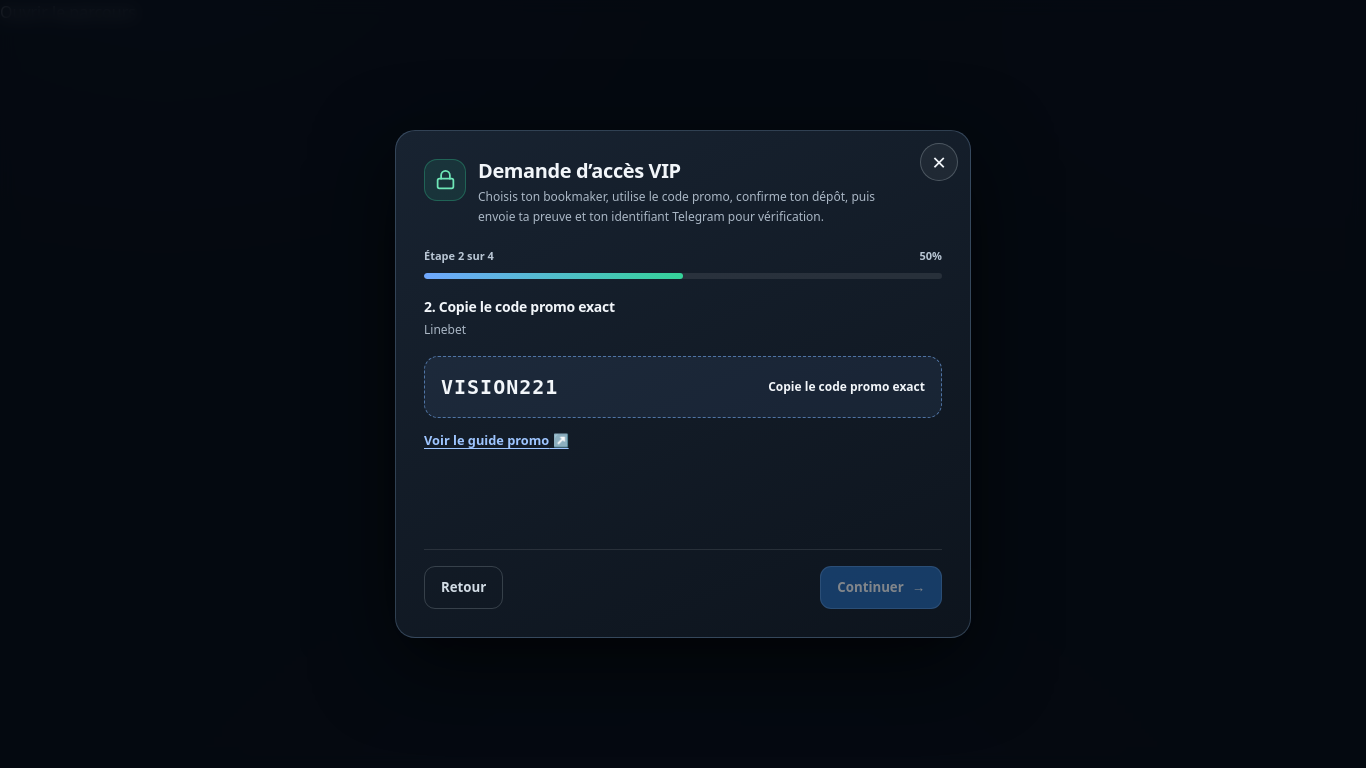
Test: parcours VIP à quatre étapes, interactions localisées › valide la copie, les confirmations et le dépôt minimal avant l’étape 4 en fr
Earlier steps of the test are not shown.
Click the button "VISION221 Copie le code promo exact". click: click(500, 387)
box: [424,356,942,418]
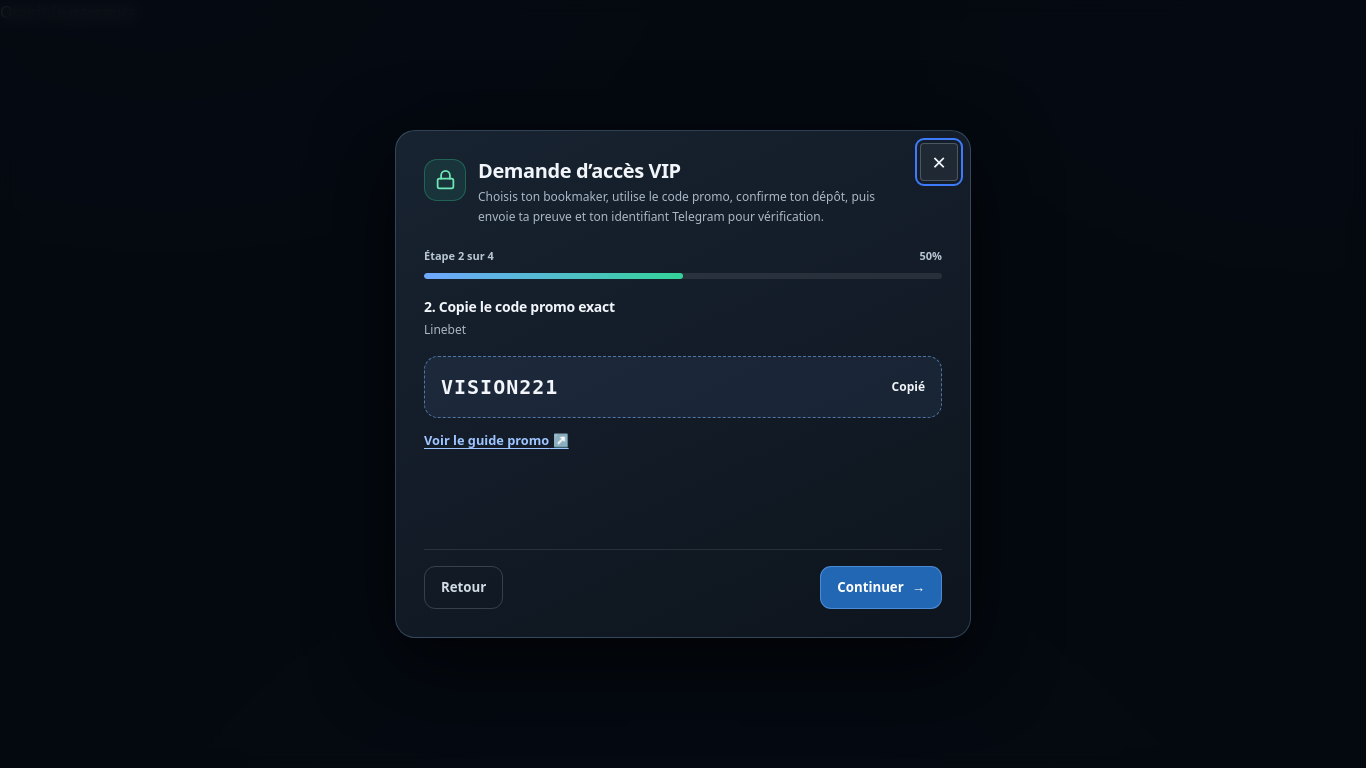
Expected: the text "Copié" is shown, [892,379,925,395]
Click the button "Continuer →". click: click(881, 588)
box: [820,566,942,609]
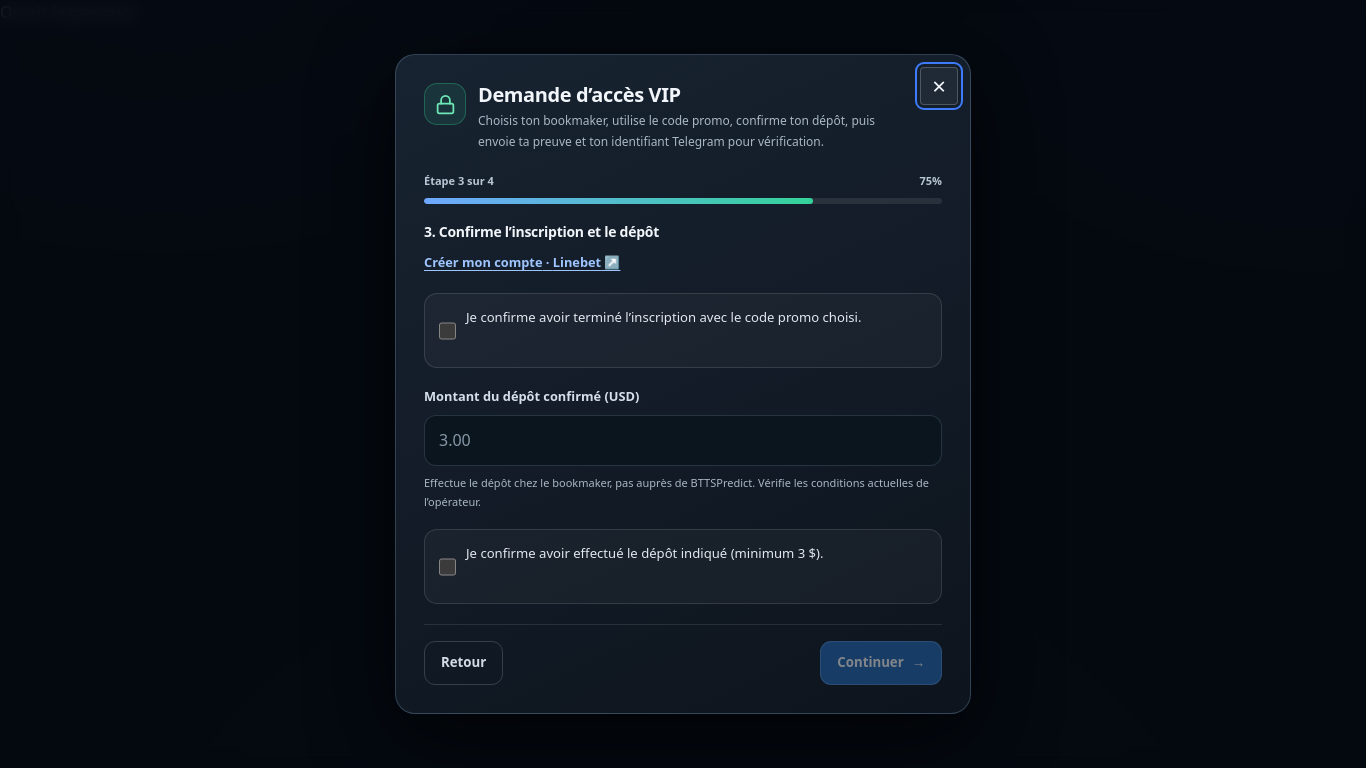
Expected: the text "Étape 3 sur 4" is shown, [424,172,494,190]
Expected: the button "Continuer →" is disabled, [820,642,942,685]
Click the 1st checkbox. click: click(448, 331)
box: [439,309,456,353]
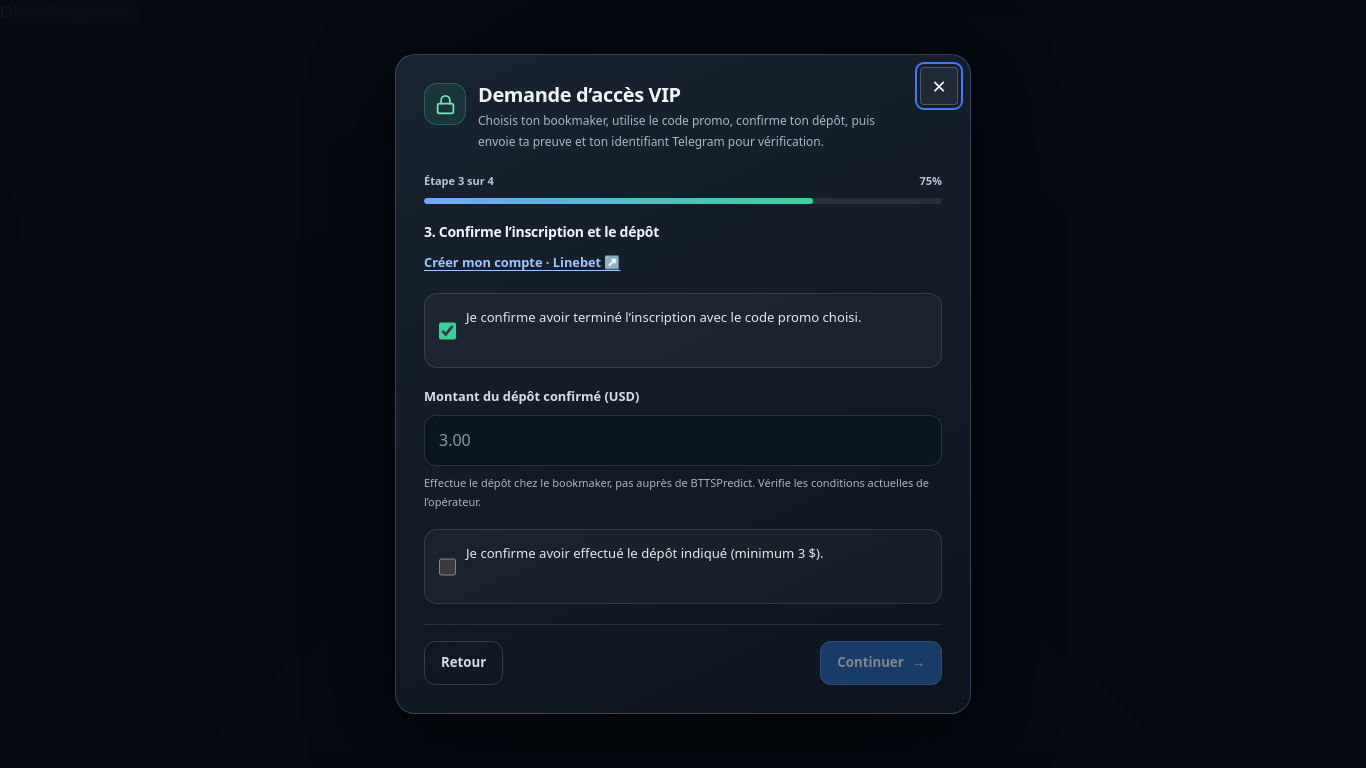
Type "2.99" into the field labelled "Montant du dépôt confirmé (USD)". click: (683, 440)
box: [424,414,942,466]
Click the checkbox labelled "Je confirme avoir effectué le dépôt indiqué (minimum 3 $).". click: click(448, 568)
box: [439,546,456,590]
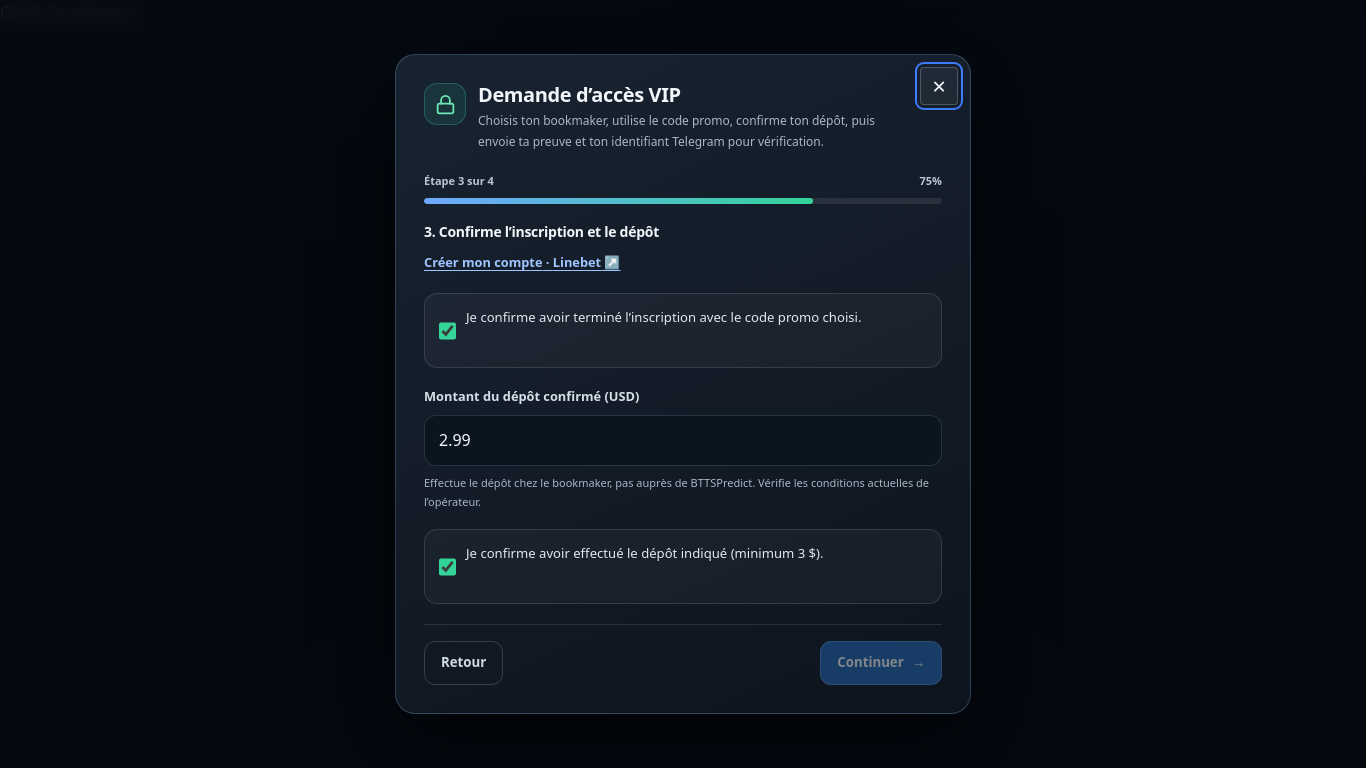
Expected: the button "Continuer →" is disabled, [820,642,942,685]
Replace the text in the field labelled "Montant du dépôt confirmé (USD)" with "3". click: (683, 440)
box: [424,414,942,466]
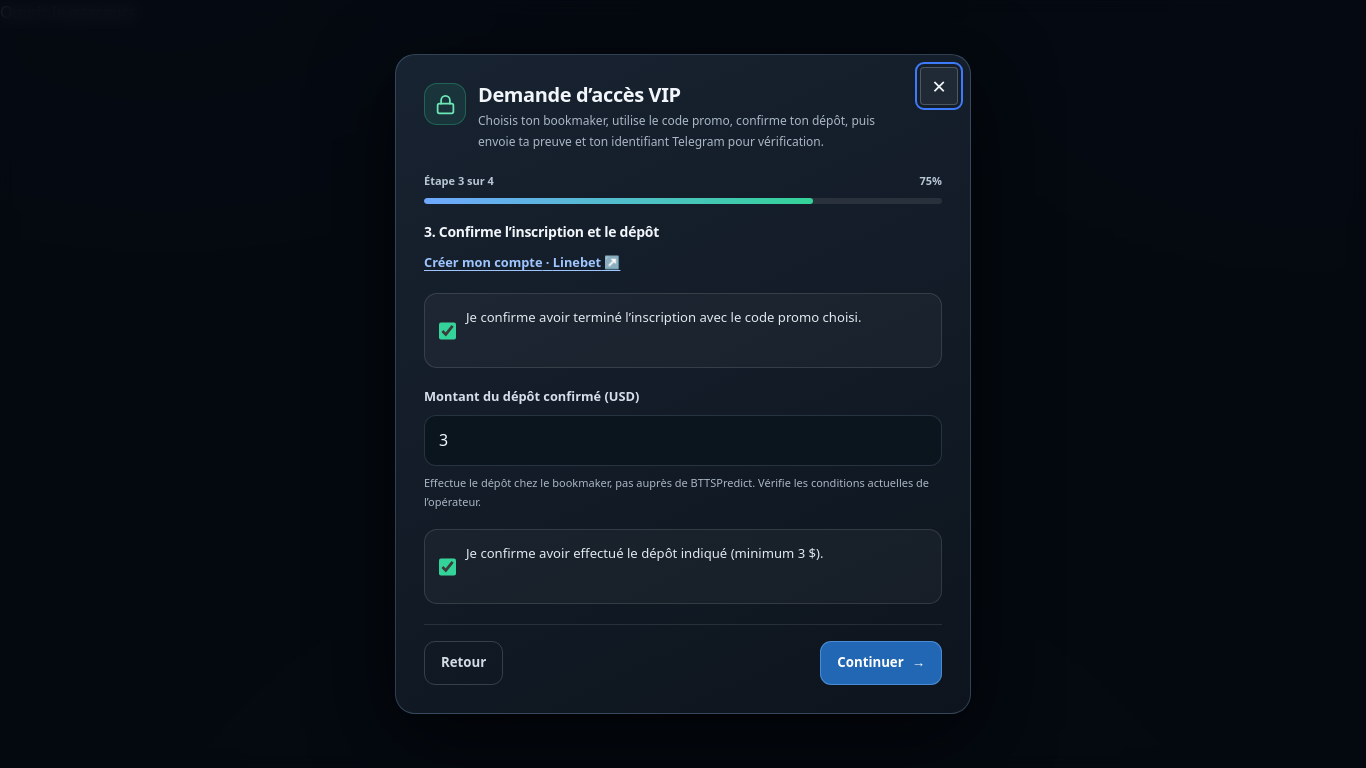
Expected: the button "Continuer →" is enabled
Click the button "Continuer →". click: click(881, 663)
box: [820,642,942,685]
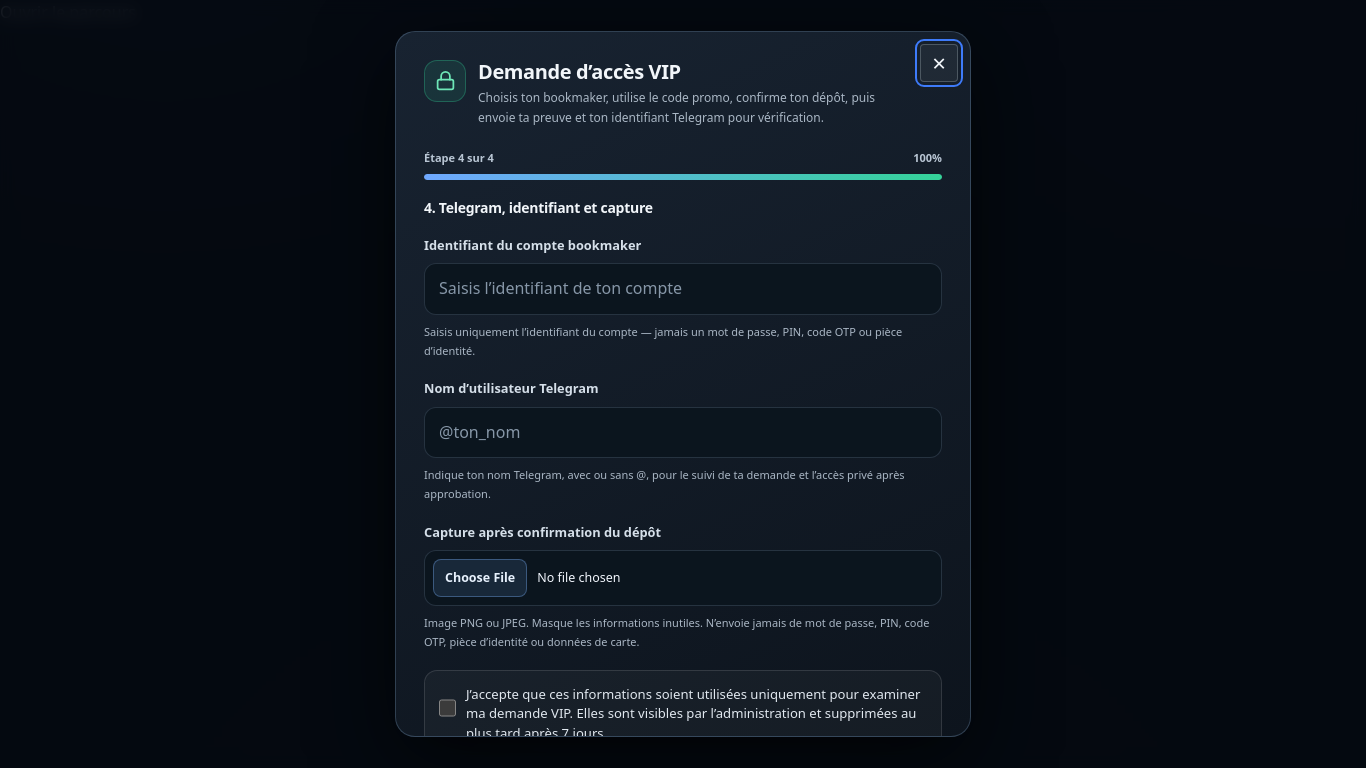
Expected: the heading "Copie le code promo exact" is not shown
Expected: the field labelled "Identifiant du compte bookmaker" is shown, [424,263,942,315]
